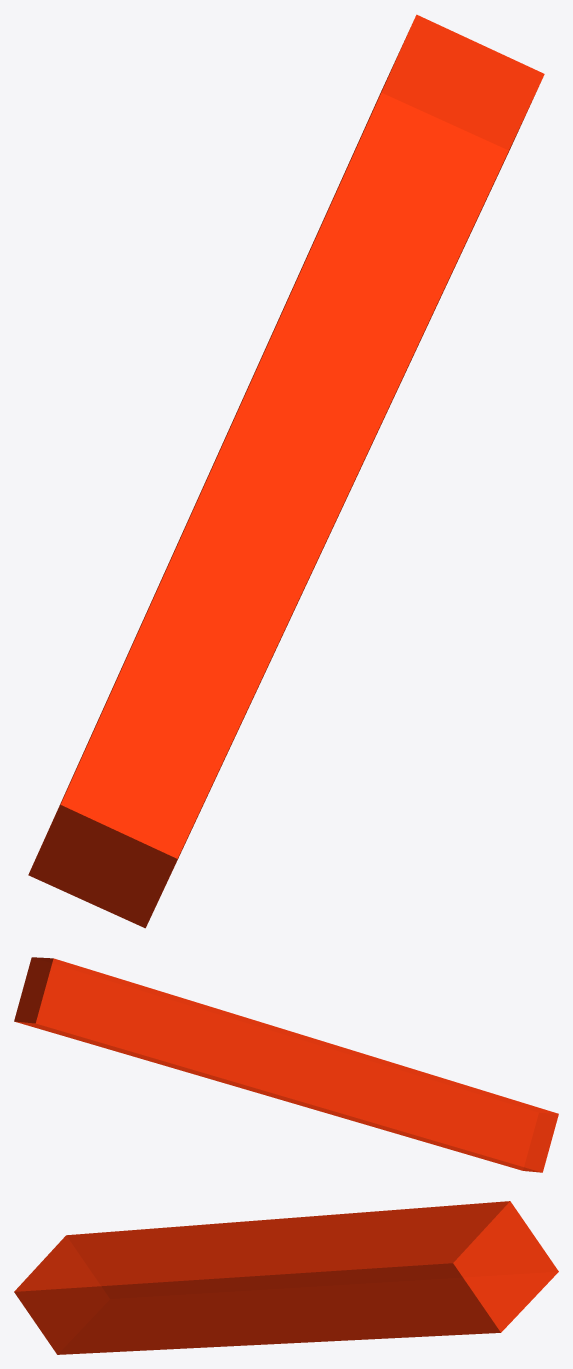
The model's file is Event_421278790_EBrechit_6.fbx.
The picture shows the model from 3 angles, top to bottom: view 1: azimuth 30°, elevation 25°; view 2: azimuth 150°, elevation 25°; view 3: azimuth 270°, elevation 25°; orthographic projection. The views are drawn at different scales.
Parts seen in each view (by area): view 1: Model; view 2: Model; view 3: Model.
Boxes of the visible parts, <box> form: Model: <box>28,14,544,928</box>; Model: <box>14,957,558,1172</box>; Model: <box>14,1201,558,1354</box>.
Bounding box in the file's own units: 0.4069 × 0.2638 × 0.3679.
